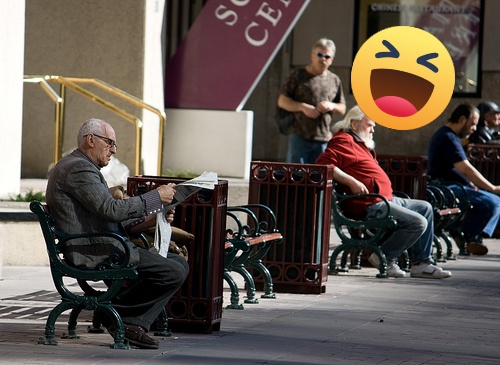haha: (351, 26, 455, 130)
